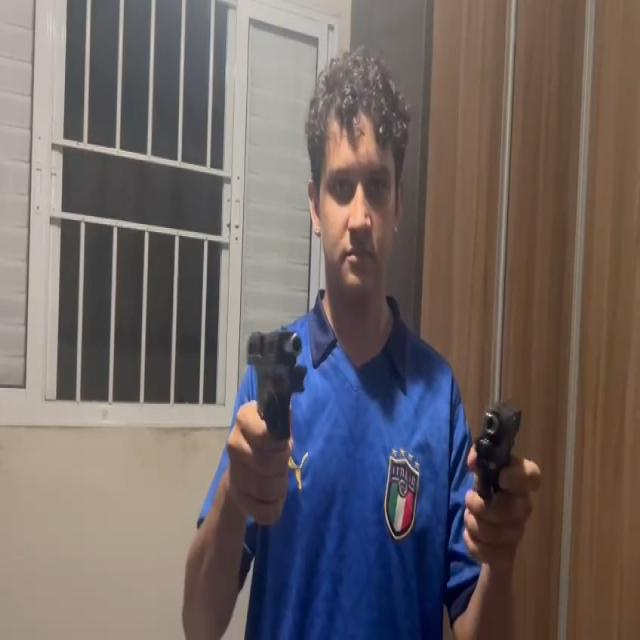guns: (246, 326, 308, 443), (474, 396, 524, 495)
